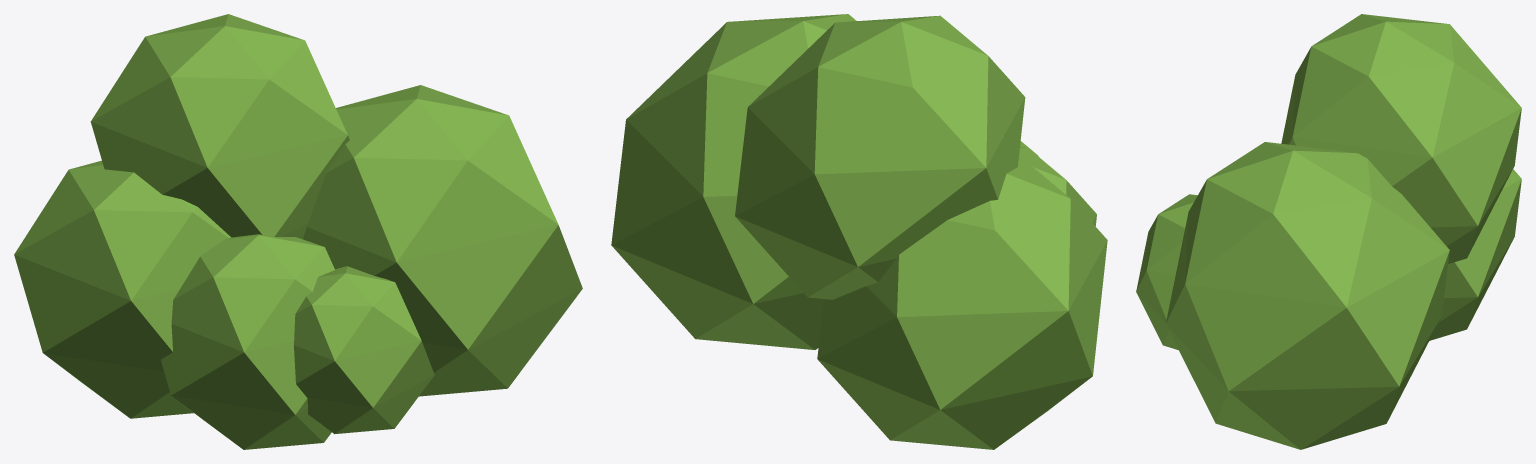
File: Bush_3.fbx
3 views of the same model, side by side, from view 1: azimuth 30°, elevation 25°; view 2: azimuth 150°, elevation 25°; view 3: azimuth 270°, elevation 25° (orthographic). The views are drawn at different scales.
Visible parts, largest first — view 1: Bush_3; view 2: Bush_3; view 3: Bush_3.
Boxes of the visible parts, <box> form: Bush_3: <box>14,14,582,449</box>; Bush_3: <box>611,14,1107,449</box>; Bush_3: <box>1136,14,1521,449</box>.
Bounding box in the file's own units: 3.71 × 2.88 × 2.91.
Materials: 1 (1 with a texture image).
